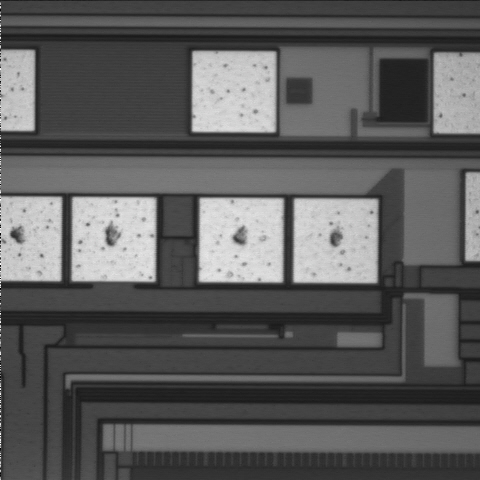pad: (72, 197, 156, 281), (199, 198, 283, 282), (294, 199, 377, 283), (192, 52, 275, 132)
